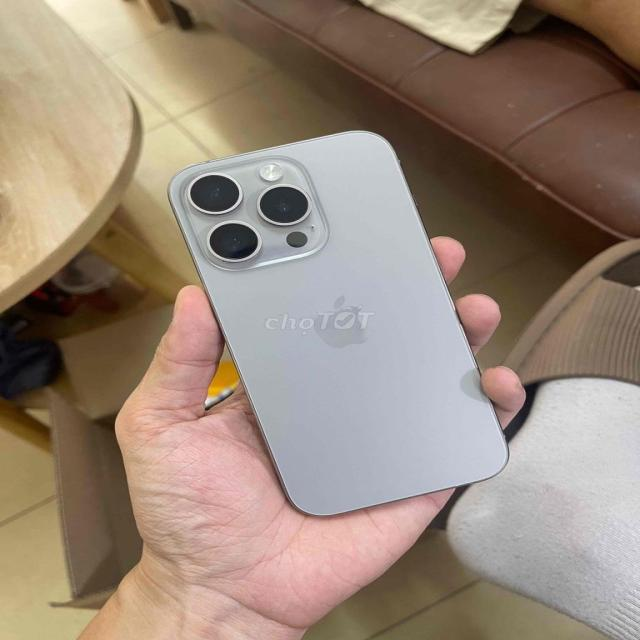gen_15: (148, 120, 516, 531)
